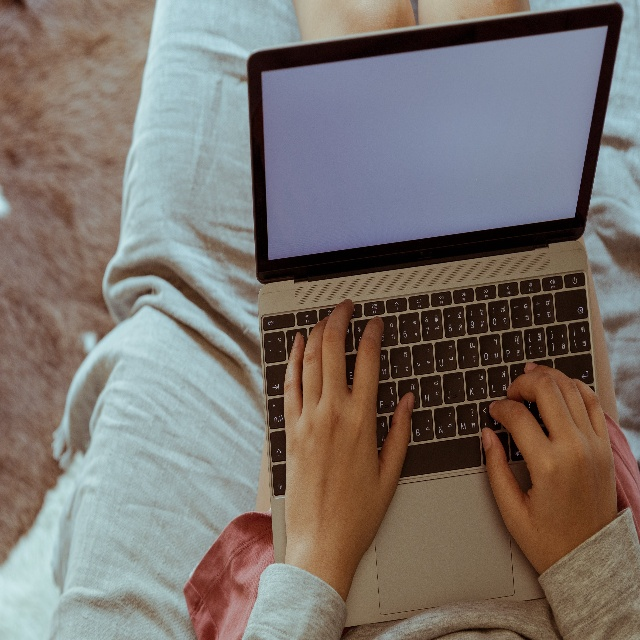Sin_guantes: (284, 300, 416, 586), (481, 362, 618, 575)
